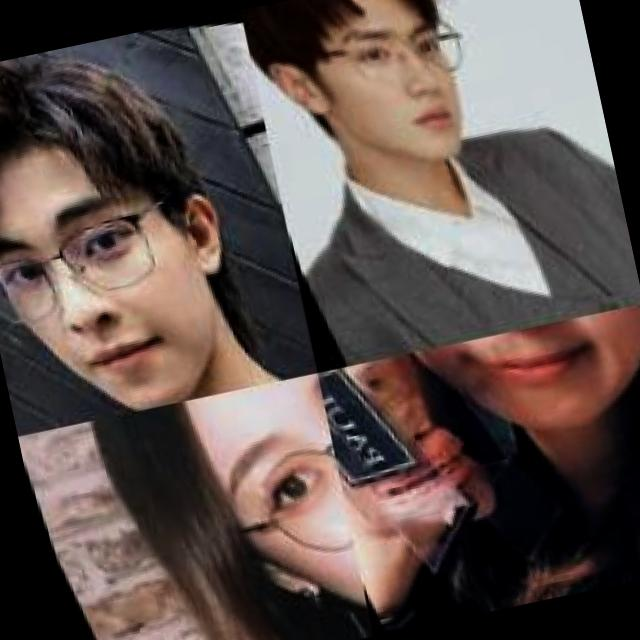glasses: (165, 373, 357, 603), (0, 156, 211, 351), (300, 0, 471, 106)
